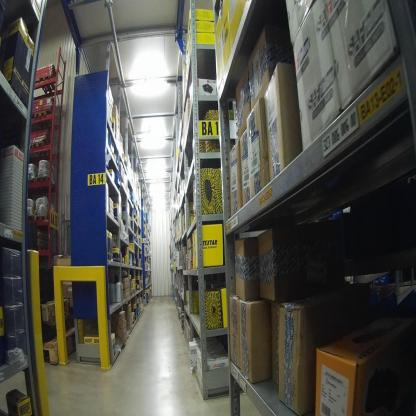pallet: (35, 320, 88, 377), (32, 294, 75, 333), (36, 67, 59, 100), (28, 139, 54, 164), (33, 174, 57, 196), (31, 111, 56, 131), (35, 210, 55, 226)
